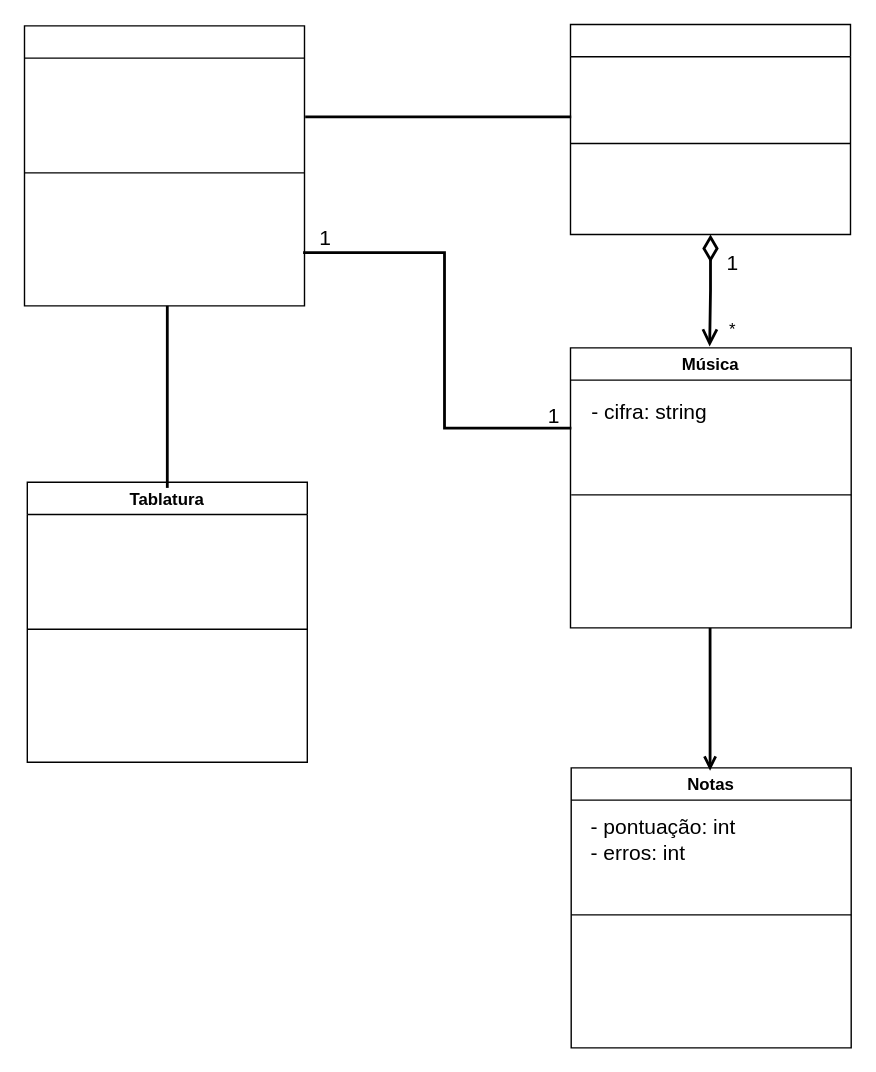
This 876x1072 diagram has some shape labels left out. The shapes that lost their labels are listed below. From the top down, each one's centre as x and y in pixels, then its label:
At [709,128]: "Setlist".
At [163,165]: "Ocarina Hero".
